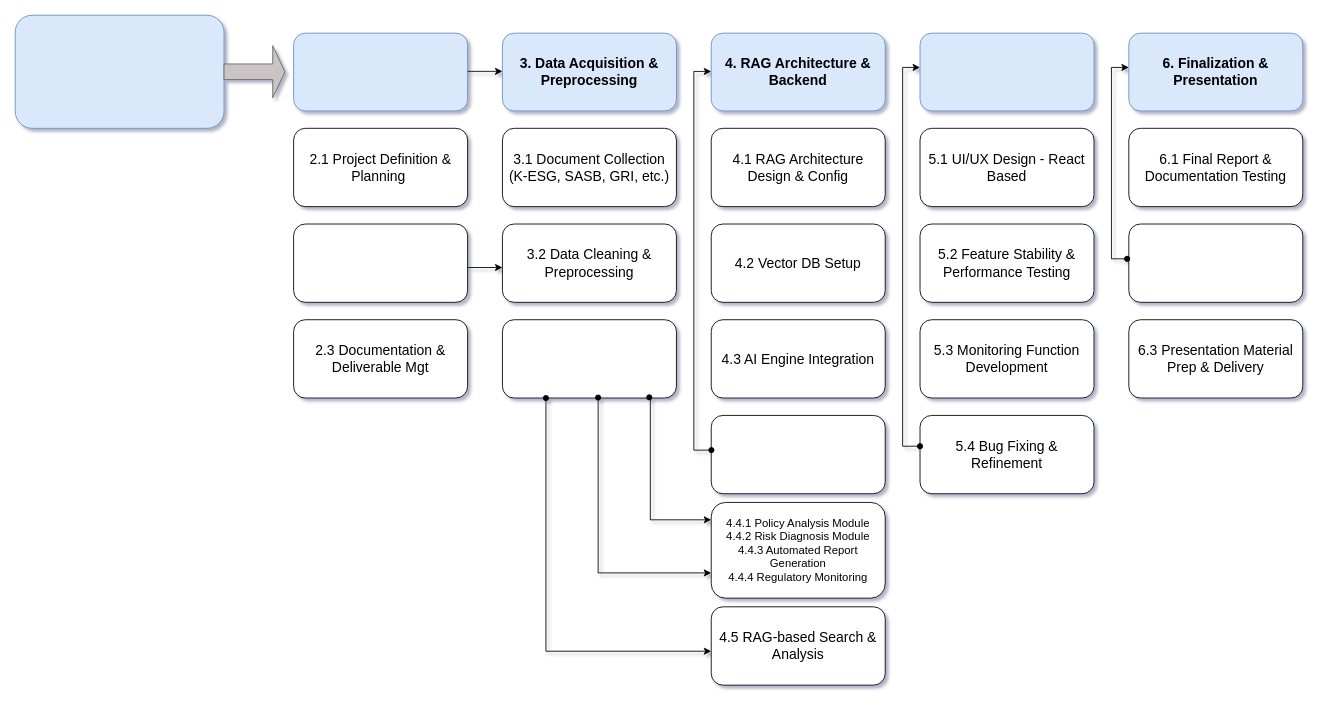
Some shapes in this 1323 by 706 pixel diagram are drawn without their labels. Each missing label, with the box of its shape:
1. ESG Insight Agent Project: (14, 14, 224, 128)
2. Project Management & Planning: (293, 32, 468, 111)
2.2 Team Formation & Role Assignment: (293, 223, 468, 302)
3.3 Embedding Model Training/Application: (502, 319, 676, 398)
4.4 Core Module Development: (710, 415, 885, 494)
5. Frontend & UI Development (React): (919, 32, 1094, 111)
6.2 System Stability Testing & Validation: (1128, 223, 1303, 302)
